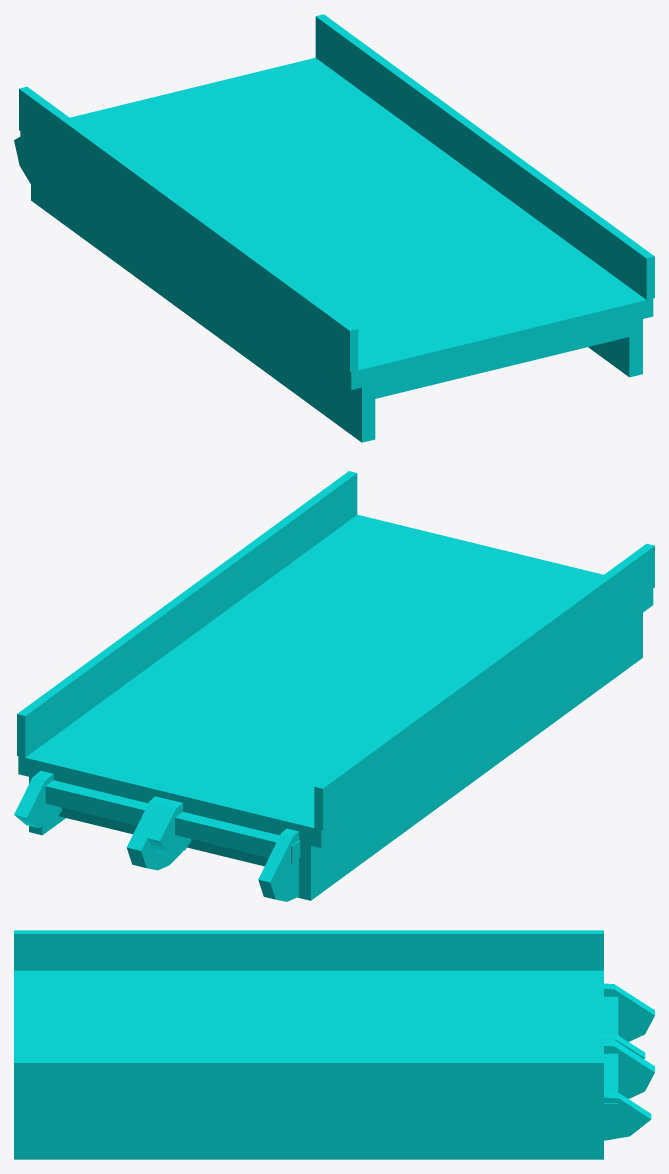
Rendered from SM_Env_Drawbridge_01_Collision.fbx.
The picture shows the model from 3 angles, top to bottom: view 1: azimuth 30°, elevation 25°; view 2: azimuth 150°, elevation 25°; view 3: azimuth 270°, elevation 25°; orthographic projection. The views are drawn at different scales.
Parts seen in each view (by area): view 1: SM_Env_Drawbridge_01_Collision; view 2: SM_Env_Drawbridge_01_Collision; view 3: SM_Env_Drawbridge_01_Collision.
Boxes of the visible parts, box(x1,y1,x2,y2) form: SM_Env_Drawbridge_01_Collision: box(14, 14, 654, 442); SM_Env_Drawbridge_01_Collision: box(14, 471, 654, 901); SM_Env_Drawbridge_01_Collision: box(14, 930, 654, 1159).
Bounding box in the file's own units: 1064 × 382 × 2173.
